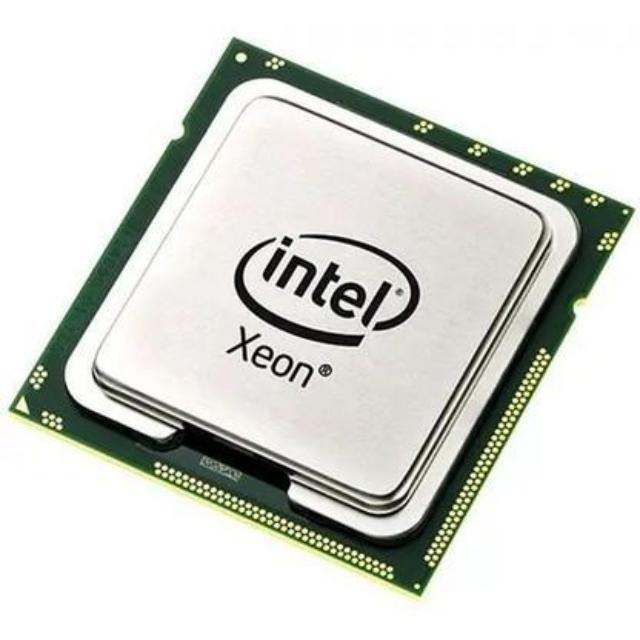CPU: (15, 43, 636, 592)
